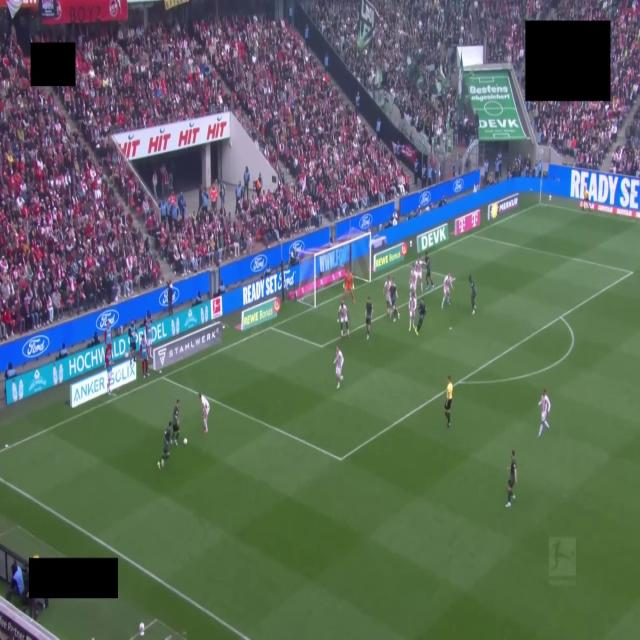ball: (183, 439, 187, 445)
player: (158, 422, 172, 468), (506, 450, 516, 508), (538, 389, 550, 437), (389, 279, 399, 321), (415, 297, 426, 335), (338, 301, 349, 338), (441, 272, 452, 308), (343, 271, 355, 304), (199, 394, 209, 433), (334, 346, 343, 388), (171, 399, 179, 445), (424, 253, 434, 288), (469, 275, 476, 314), (409, 292, 416, 331), (384, 277, 391, 316), (415, 259, 423, 292), (366, 297, 372, 339), (409, 269, 417, 294)
referee: (445, 376, 452, 427)
